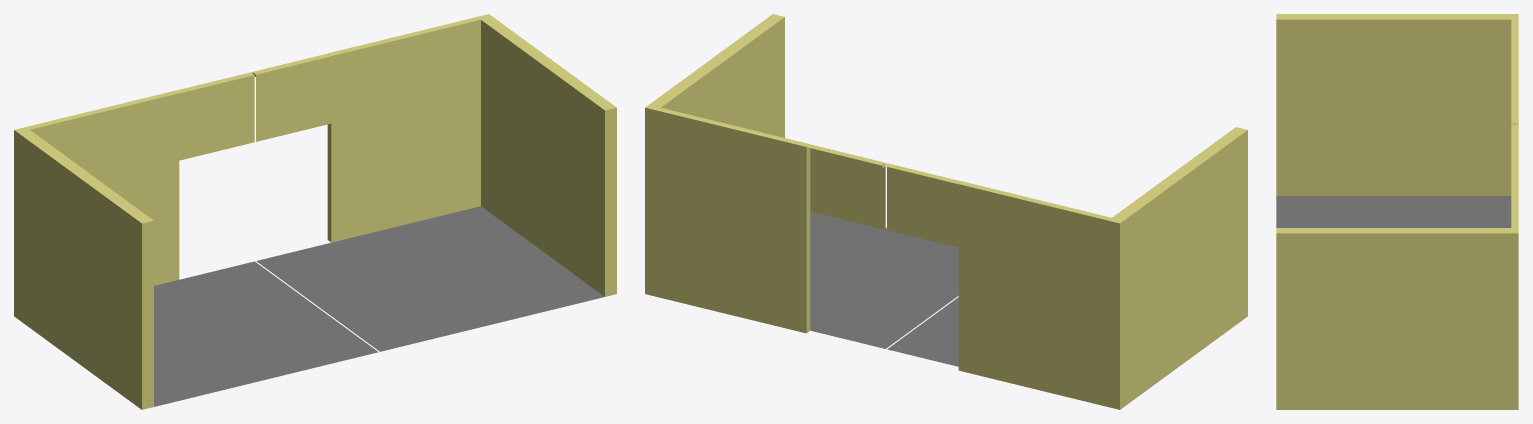
File: room.fbx
3 views of the same model, side by side, from view 1: azimuth 30°, elevation 25°; view 2: azimuth 150°, elevation 25°; view 3: azimuth 270°, elevation 25° (orthographic). The views are drawn at different scales.
Parts seen in each view (by area): view 1: Plane; view 2: Plane; view 3: Plane.
Boxes of the visible parts, x1,y1,x2,y2 form: Plane: (14,14,616,409); Plane: (645,14,1247,409); Plane: (1276,14,1518,409).
Bounding box in the file's own units: 426 × 160 × 199.
